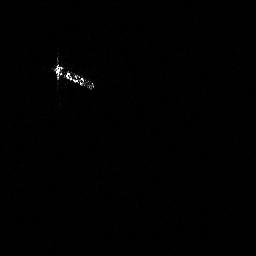ship: (52, 58, 96, 91)
